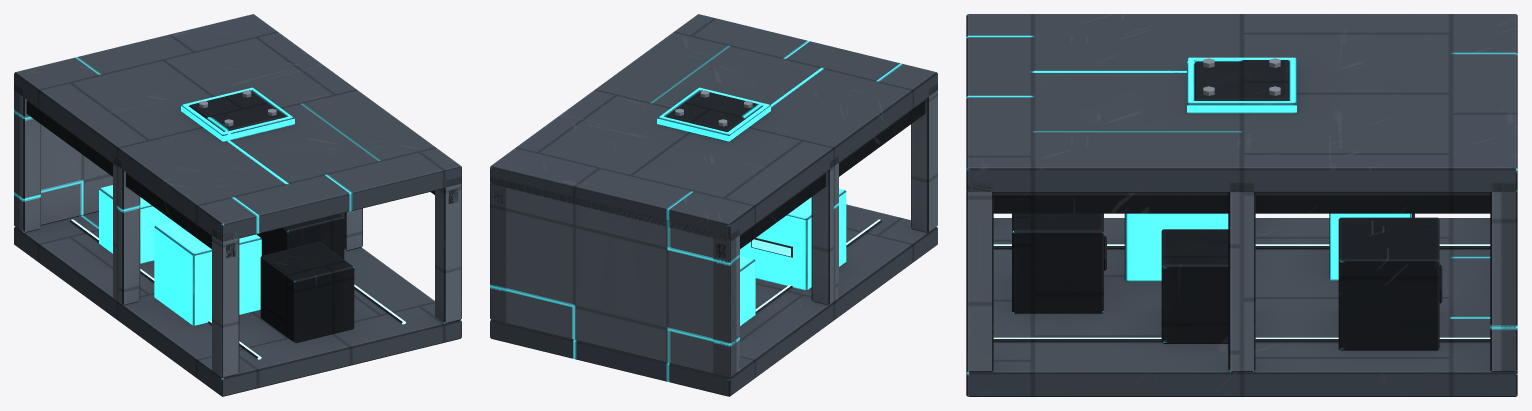
File: bahia_carga_t3.fbx
3 views of the same model, side by side, from view 1: azimuth 30°, elevation 25°; view 2: azimuth 150°, elevation 25°; view 3: azimuth 270°, elevation 25° (orthographic). The views are drawn at different scales.
Visible parts, largest first — view 1: bahia_carga_t3; view 2: bahia_carga_t3; view 3: bahia_carga_t3, bahia_carga_t3_neon.
Boxes of the visible parts, x1,y1,x2,y2 form: bahia_carga_t3: [14, 14, 461, 396]; bahia_carga_t3: [490, 14, 937, 396]; bahia_carga_t3: [966, 14, 1517, 396]; bahia_carga_t3_neon: [993, 244, 1490, 338].
Bounding box in the file's own units: 4 × 3.13 × 6.
